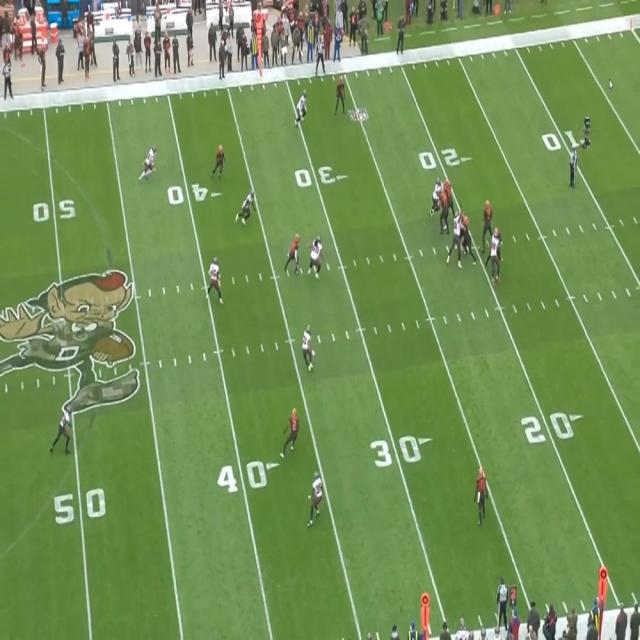db: (56, 398, 72, 453), (309, 473, 323, 525), (304, 328, 316, 372), (142, 145, 154, 178), (298, 92, 308, 125)
lb: (208, 257, 222, 304), (309, 236, 322, 274), (241, 195, 254, 225)
qb: (483, 199, 492, 248)
skill: (286, 404, 298, 453), (287, 235, 301, 274), (337, 74, 348, 112), (215, 141, 224, 174)
